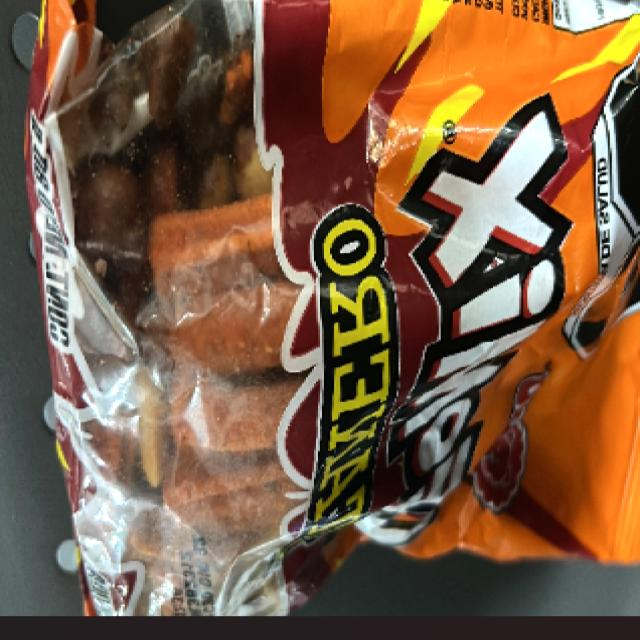leoMix: (40, 3, 640, 564)
